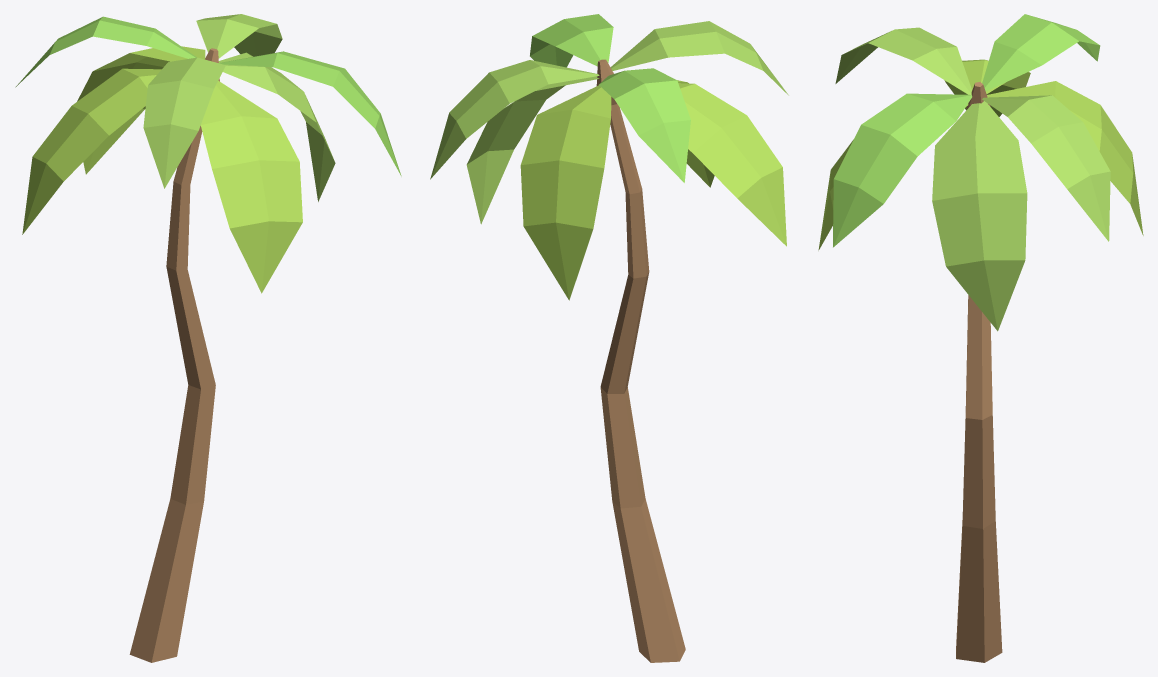
Rendered from Palm_Tree_m_BT_04.fbx.
3 renders of one model, left to right at view 1: azimuth 30°, elevation 25°; view 2: azimuth 150°, elevation 25°; view 3: azimuth 270°, elevation 25°, orthographic. The views are drawn at different scales.
Visible parts, largest first — view 1: Palm_Tree_m_BT_04; view 2: Palm_Tree_m_BT_04; view 3: Palm_Tree_m_BT_04.
Boxes of the visible parts, x1,y1,x2,y2 form: Palm_Tree_m_BT_04: (15,14,401,662); Palm_Tree_m_BT_04: (430,14,788,662); Palm_Tree_m_BT_04: (818,14,1143,662).
Bounding box in the file's own units: 319 × 600 × 284.
